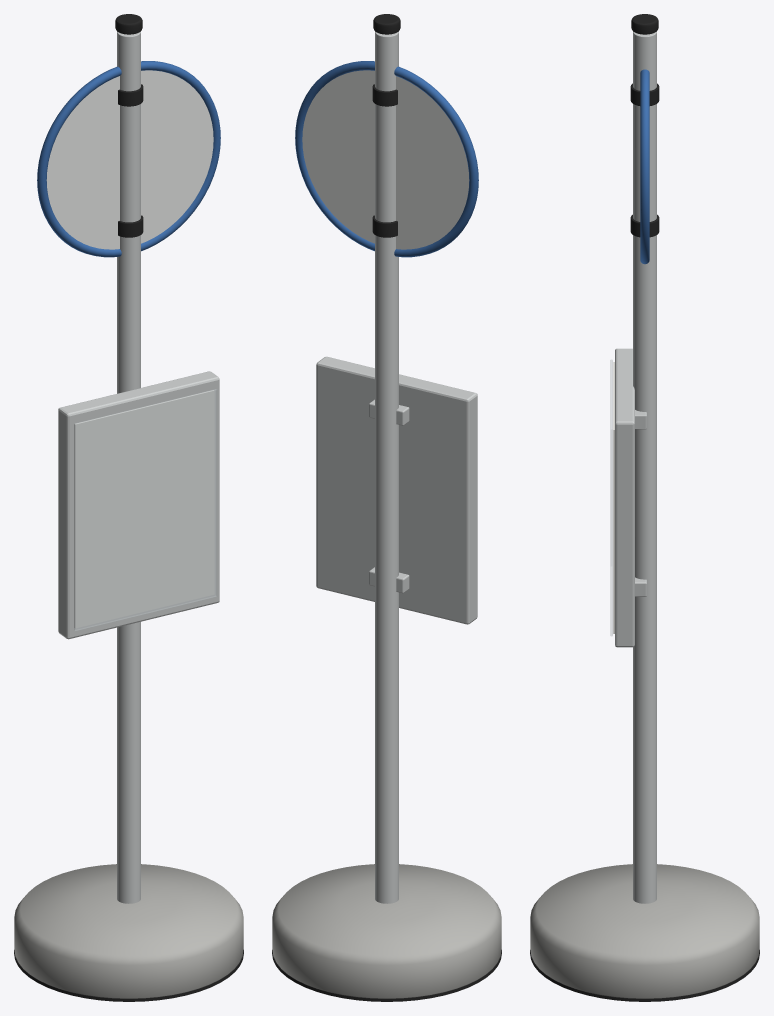
Rendered from city-bus-stop-pole.glb.
3 views of the same model, side by side, from view 1: azimuth 30°, elevation 25°; view 2: azimuth 150°, elevation 25°; view 3: azimuth 270°, elevation 25° (orthographic).
Parts seen in each view (by area): view 1: Assembly | Clear polycarbonate cover, Assembly | Timetable panel off-white, Assembly | Cast concrete base, Assembly | Pale grey powder coat, Assembly | Blank sign face white, Assembly | Sign rim blue, Assembly | Black rubber and fixings; view 2: Assembly | Pale grey powder coat, Assembly | Cast concrete base, Assembly | Blank sign face white, Assembly | Sign rim blue, Assembly | Black rubber and fixings; view 3: Assembly | Cast concrete base, Assembly | Pale grey powder coat, Assembly | Black rubber and fixings, Assembly | Sign rim blue, Assembly | Clear polycarbonate cover, Assembly | Timetable panel off-white.
Part boxes in pixels (<box>): Assembly | Clear polycarbonate cover: <box>74,389,216,630</box>; Assembly | Timetable panel off-white: <box>74,390,214,628</box>; Assembly | Cast concrete base: <box>14,864,243,998</box>; Assembly | Pale grey powder coat: <box>58,31,219,903</box>; Assembly | Blank sign face white: <box>46,70,213,249</box>; Assembly | Sign rim blue: <box>37,61,220,257</box>; Assembly | Black rubber and fixings: <box>14,14,243,1001</box>; Assembly | Pale grey powder coat: <box>316,31,477,903</box>; Assembly | Cast concrete base: <box>272,864,501,998</box>; Assembly | Blank sign face white: <box>302,70,469,249</box>; Assembly | Sign rim blue: <box>295,61,478,257</box>; Assembly | Black rubber and fixings: <box>272,14,501,1001</box>; Assembly | Cast concrete base: <box>530,864,759,998</box>; Assembly | Pale grey powder coat: <box>615,31,656,903</box>; Assembly | Black rubber and fixings: <box>530,14,759,1001</box>; Assembly | Sign rim blue: <box>640,69,649,264</box>; Assembly | Clear polycarbonate cover: <box>610,360,612,635</box>; Assembly | Timetable panel off-white: <box>613,362,614,633</box>.
Size of the model in its own units: 0.572 by 2.57 by 0.572.
